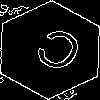C: (25, 25, 87, 83)
